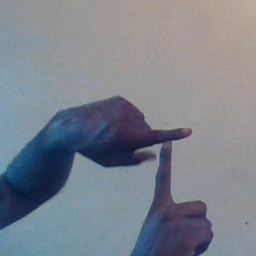T: (125, 99, 210, 219)
